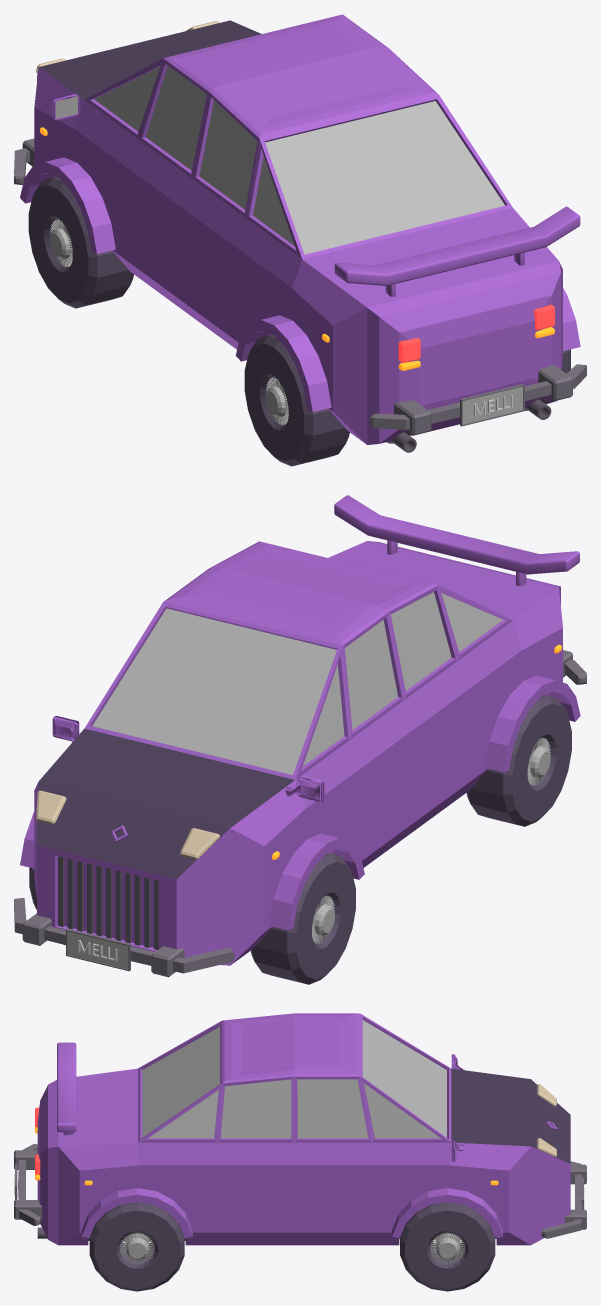
Rendered from car2.fbx.
3 renders of one model, top to bottom at view 1: azimuth 30°, elevation 25°; view 2: azimuth 150°, elevation 25°; view 3: azimuth 270°, elevation 25°, orthographic. The views are drawn at different scales.
Visible parts, largest first — view 1: Cube, Null_2, Tube, Tube_2, Cube_2_6, Cube_1, Cube_2, Cube_4_3, Cube_3_2, mirror; view 2: Cube, Null_2, Tube, Tube_2, Cube_2_6, Cube_1_2, Cube_3_3, Cube_1_4, Cube_2_2, mirror; view 3: Cube, Tube_3, Tube_4, Null_2, Cube_2_6, Cube_1_2, Cube_2, Cube_1, Cube_2_2, Cylinder_4, Cylinder_3, Cube_1_4.
Part boxes in pixels (left/top/right/bottom): Cube: left=34, top=14, right=562, bottom=444; Null_2: left=20, top=157, right=580, bottom=411; Tube: left=28, top=176, right=133, bottom=308; Tube_2: left=244, top=334, right=349, bottom=466; Cube_2_6: left=334, top=206, right=580, bottom=285; Cube_1: left=369, top=364, right=586, bottom=429; Cube_2: left=394, top=364, right=572, bottom=435; Cube_4_3: left=460, top=384, right=524, bottom=426; Cube_3_2: left=398, top=304, right=554, bottom=362; mirror: left=52, top=94, right=79, bottom=120; Cube: left=34, top=541, right=562, bottom=965; Null_2: left=20, top=675, right=580, bottom=930; Tube: left=251, top=853, right=355, bottom=984; Tube_2: left=466, top=695, right=571, bottom=826; Cube_2_6: left=334, top=495, right=579, bottom=574; Cube_1_2: left=14, top=898, right=234, bottom=973; Cube_3_3: left=66, top=928, right=130, bottom=971; Cube_1_4: left=36, top=790, right=219, bottom=859; Cube_2_2: left=22, top=913, right=184, bottom=977; mirror: left=52, top=716, right=324, bottom=801; Cube: left=37, top=1013, right=570, bottom=1245; Tube_3: left=400, top=1202, right=495, bottom=1291; Tube_4: left=89, top=1202, right=184, bottom=1291; Null_2: left=81, top=1188, right=502, bottom=1237; Cube_2_6: left=57, top=1042, right=76, bottom=1132; Cube_1_2: left=541, top=1161, right=582, bottom=1238; Cube_2: left=14, top=1150, right=42, bottom=1219; Cube_1: left=18, top=1143, right=40, bottom=1225; Cube_2_2: left=564, top=1164, right=586, bottom=1229; Cylinder_4: left=125, top=1233, right=149, bottom=1259; Cylinder_3: left=435, top=1233, right=459, bottom=1259; Cube_1_4: left=537, top=1084, right=556, bottom=1156.
Bounding box in the file's own units: 284 × 283 × 720.
